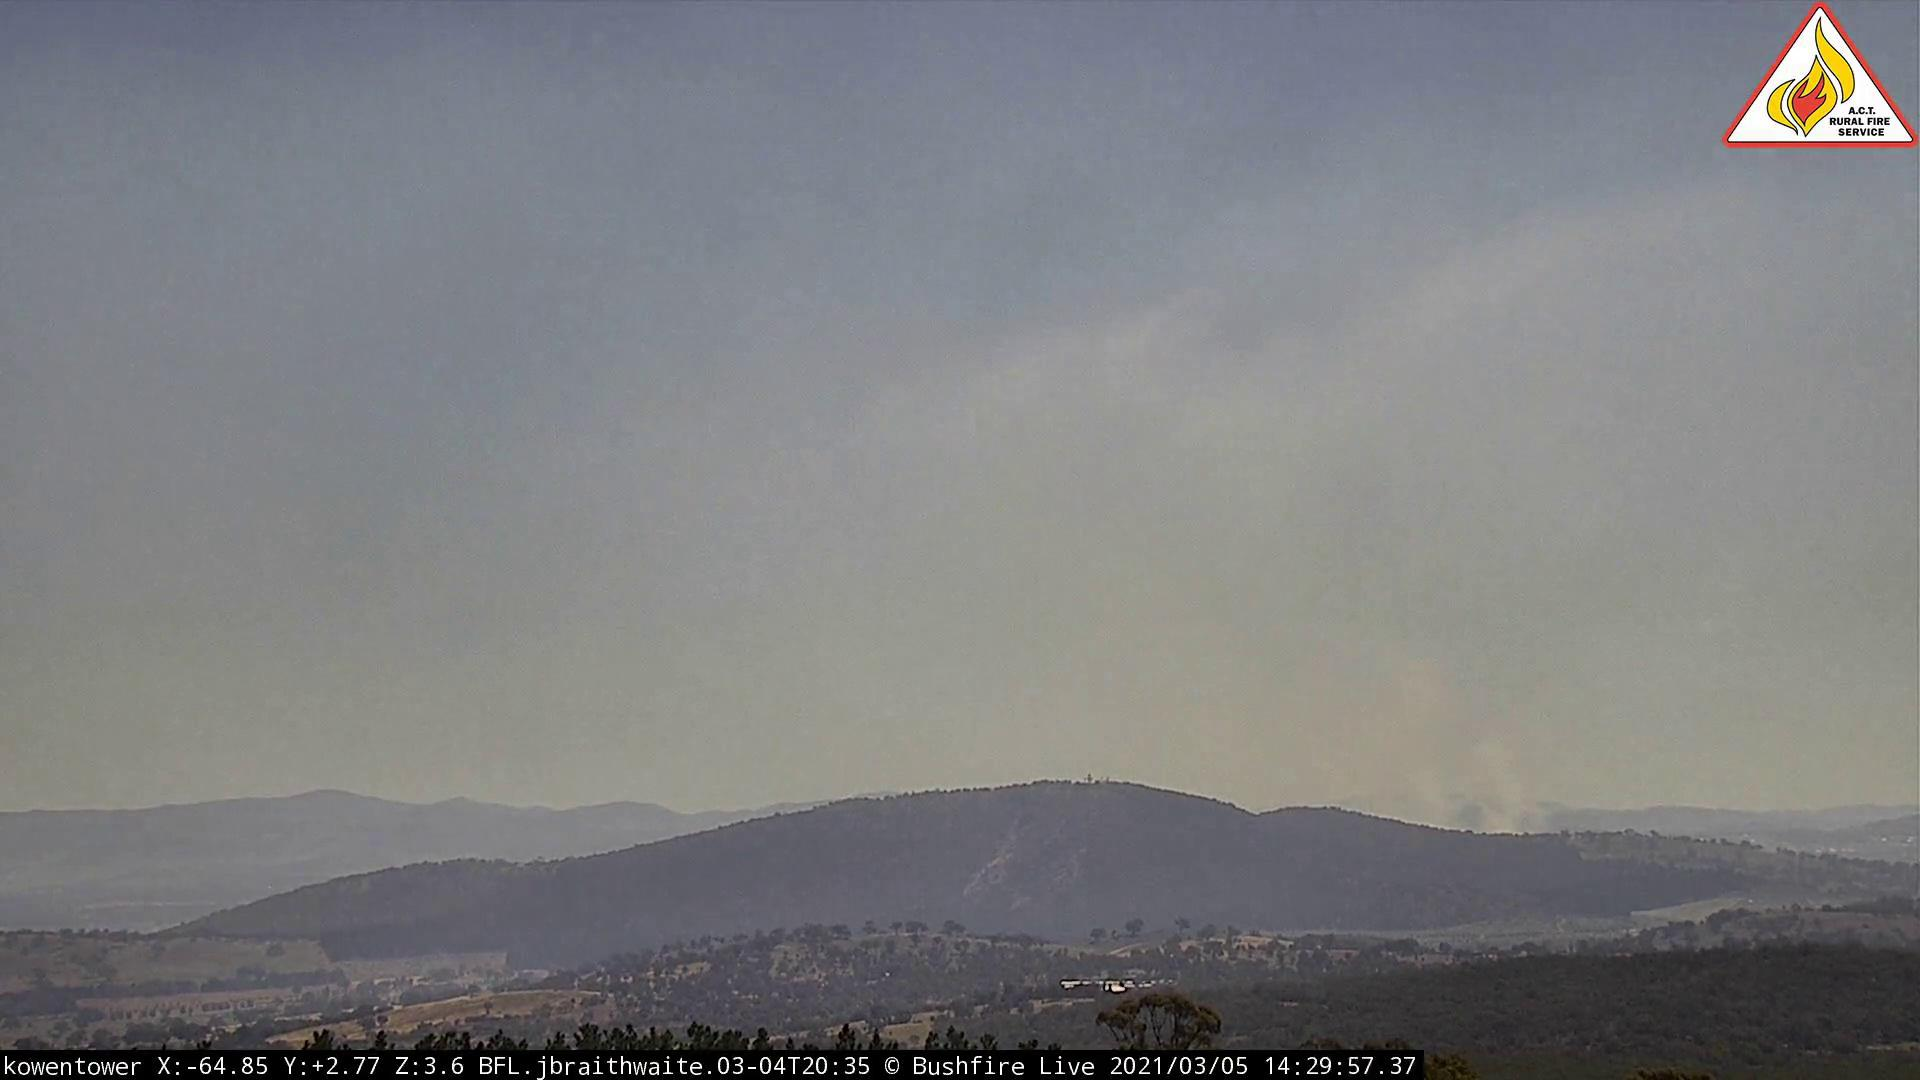Smoke: (1097, 537, 1559, 844)
